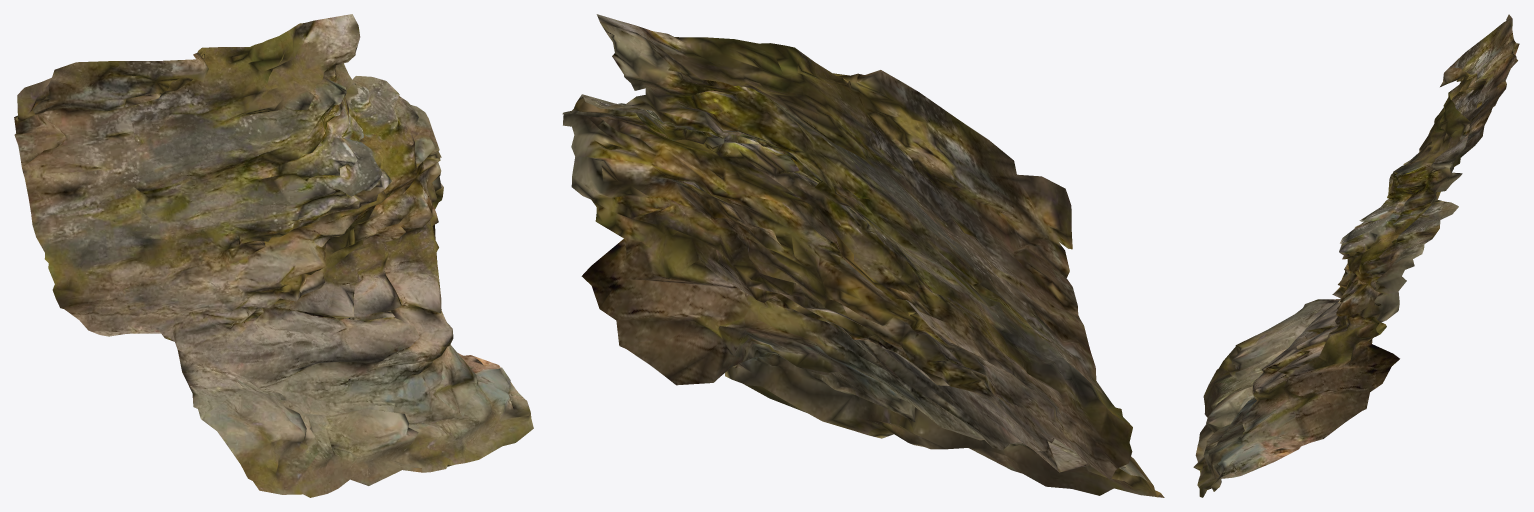
The model's file is rock_face_02.glb.
3 views of the same model, side by side, from view 1: azimuth 30°, elevation 25°; view 2: azimuth 150°, elevation 25°; view 3: azimuth 270°, elevation 25° (orthographic). The views are drawn at different scales.
Parts seen in each view (by area): view 1: rock_face_02; view 2: rock_face_02; view 3: rock_face_02.
Part boxes in pixels (left/top/right/bottom): rock_face_02: left=14, top=14, right=533, bottom=497; rock_face_02: left=562, top=14, right=1164, bottom=497; rock_face_02: left=1193, top=14, right=1519, bottom=497.
Bounding box in the file's own units: 2.71 × 2.47 × 2.13.
1 material, 1 textured.
